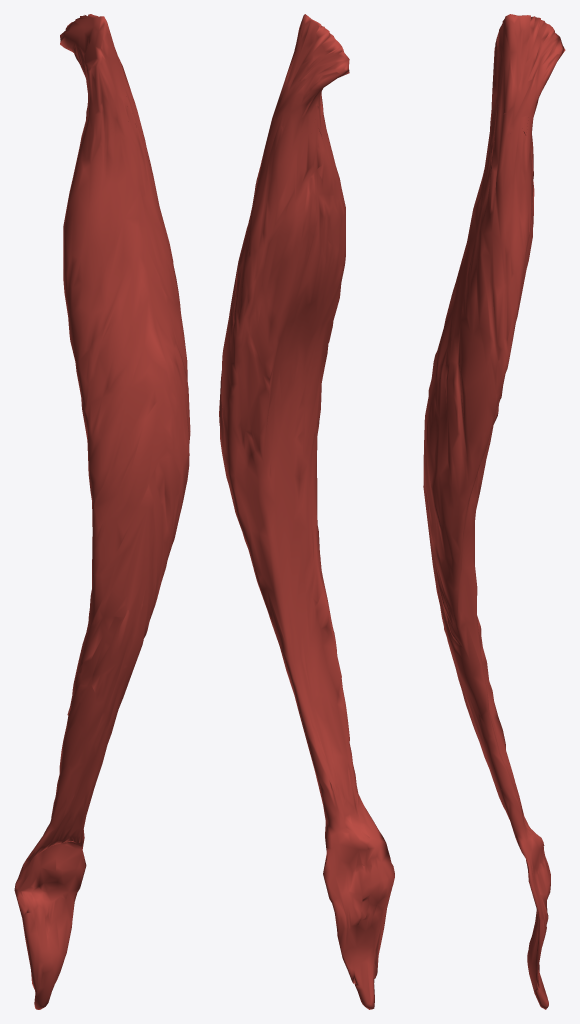
Rendered from musculos-rectus-femoris-muscle-l.glb.
3 views of the same model, side by side, from view 1: azimuth 30°, elevation 25°; view 2: azimuth 210°, elevation 25°; view 3: azimuth 270°, elevation 25° (orthographic). The views are drawn at different scales.
Visible parts, largest first — view 1: Rectus femoris muscle.l; view 2: Rectus femoris muscle.l; view 3: Rectus femoris muscle.l.
Part boxes in pixels (x1,y1,x2,y2): Rectus femoris muscle.l: [14, 14, 190, 1009]; Rectus femoris muscle.l: [219, 14, 394, 1009]; Rectus femoris muscle.l: [423, 14, 565, 1009].
Bounding box in the file's own units: 0.0816 × 0.5453 × 0.0689.
